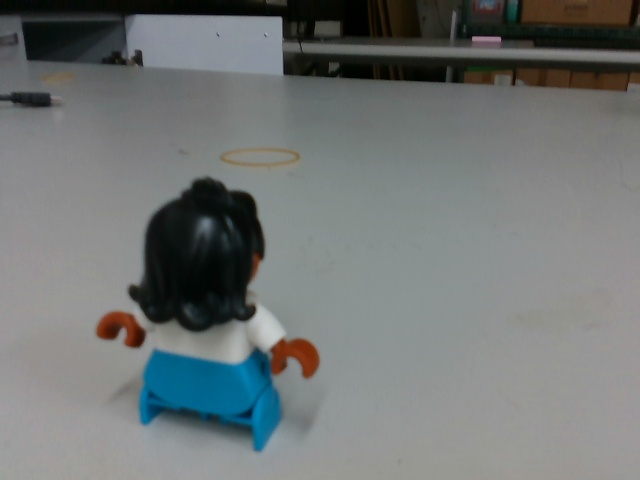people: (93, 178, 324, 453)
